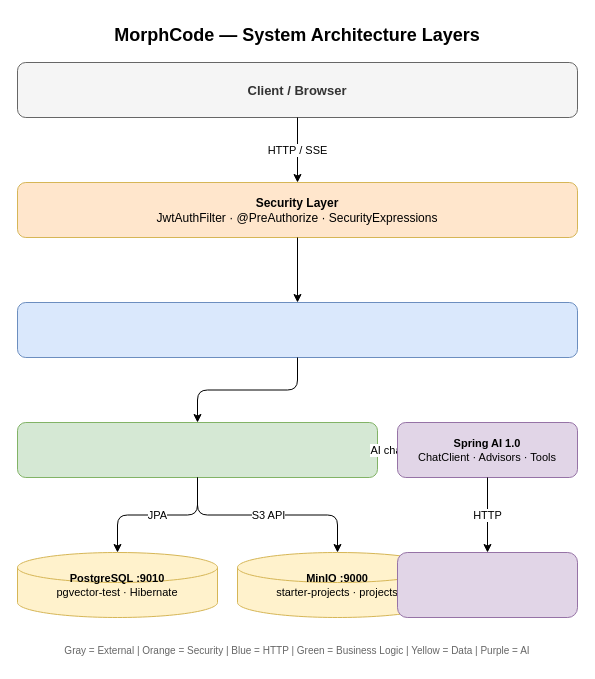
This 595x679 diagram has some shape labels left out. Here are the shapes that lost their labels. From the top down, the box of each, then its label:
(16, 302, 578, 358): Controller Layer Auth · Project · Chat · Members · Billing · Usage
(16, 422, 378, 478): Service Layer Auth · Project · Chat · Member · Usage · Subscription
(396, 552, 578, 618): OpenRouter API → Gemini Flash
